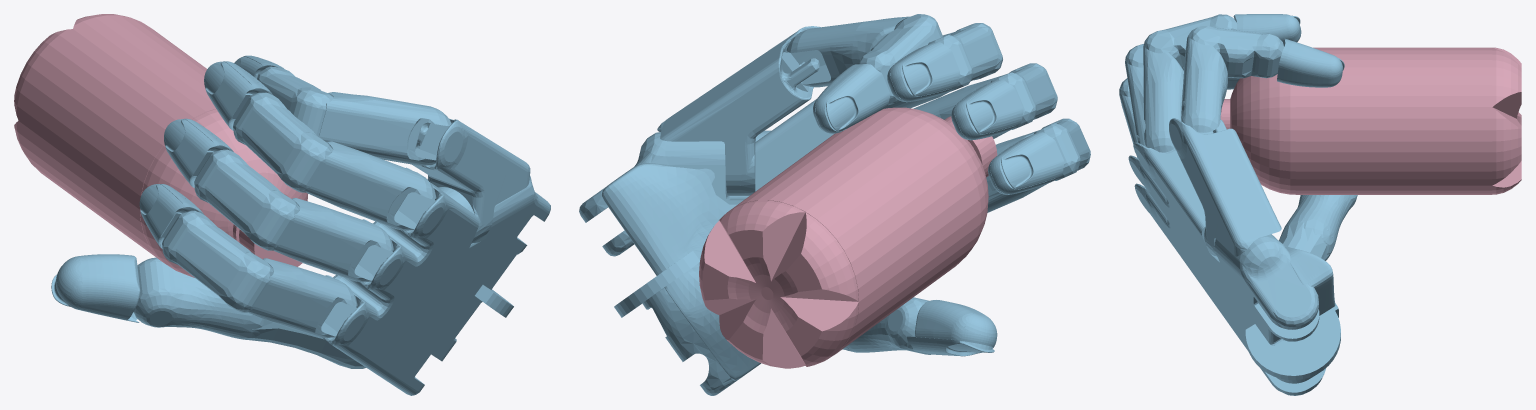
The picture shows the model from 3 angles, left to right: view 1: azimuth 30°, elevation 25°; view 2: azimuth 150°, elevation 25°; view 3: azimuth 270°, elevation 25°; orthographic projection. The views are drawn at different scales.
Parts seen in each view (by area): view 1: world; view 2: world; view 3: world.
Boxes of the visible parts, <box> form: world: <box>14,14,550,395</box>; world: <box>579,14,1090,395</box>; world: <box>1119,14,1521,395</box>.
Size of the model in its own units: 0.1731 by 0.1382 by 0.1644.
